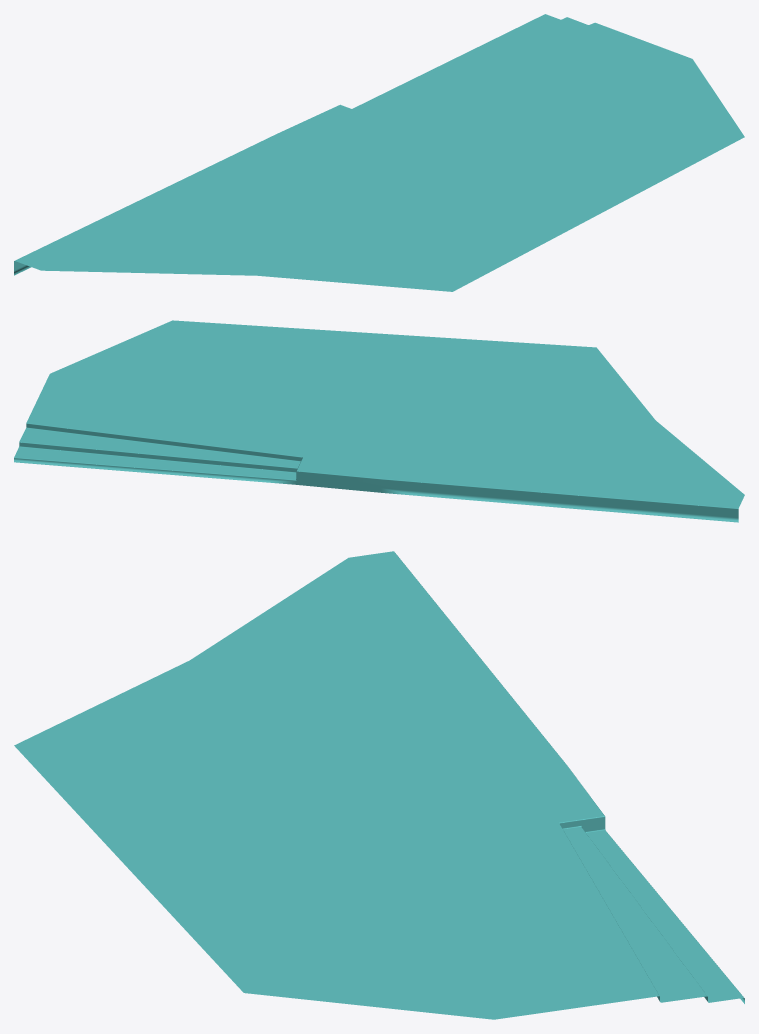
The model's file is Kulturbrott_concrete_isolated.fbx.
3 views of the same model, one above another, from view 1: azimuth 30°, elevation 25°; view 2: azimuth 150°, elevation 25°; view 3: azimuth 270°, elevation 25° (orthographic). The views are drawn at different scales.
Visible parts, largest first — view 1: concreteGround; view 2: concreteGround; view 3: concreteGround.
Part boxes in pixels (bbox=[...]): concreteGround: bbox=[14, 14, 744, 291]; concreteGround: bbox=[14, 320, 744, 522]; concreteGround: bbox=[14, 551, 744, 1019].
Bounding box in the file's own units: 2474 × 50 × 1630.
